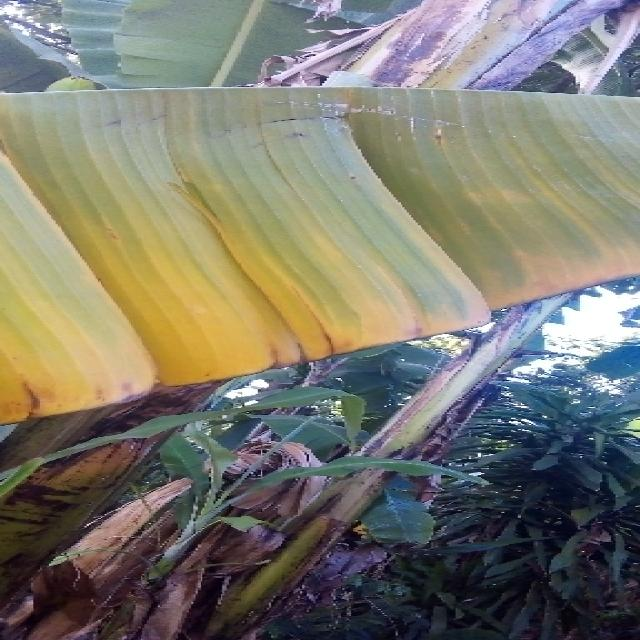Cordana: (0, 61, 640, 441)
